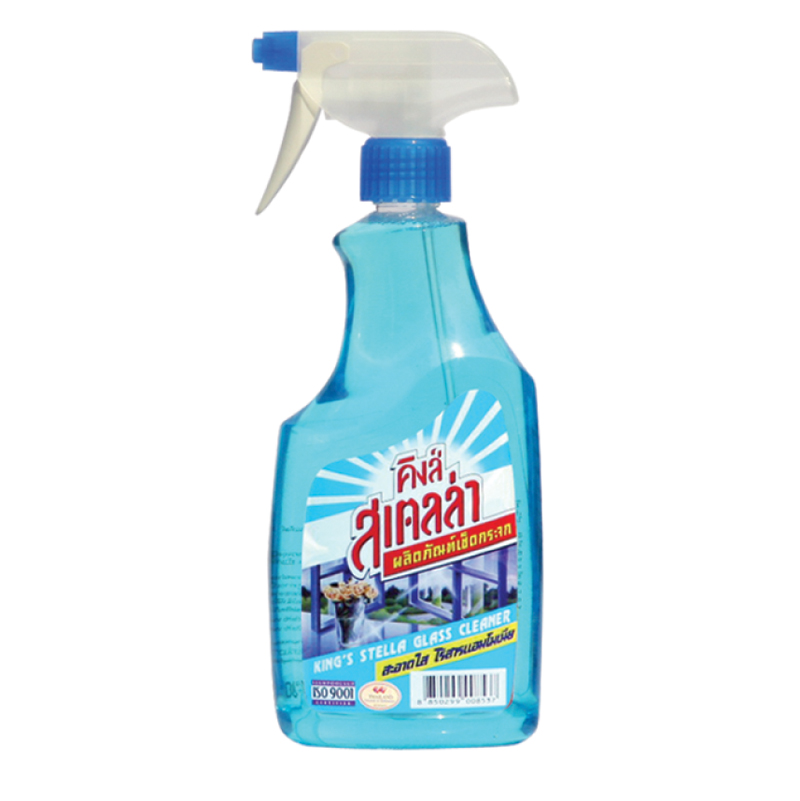Cleaning_solution: (243, 23, 551, 761)
